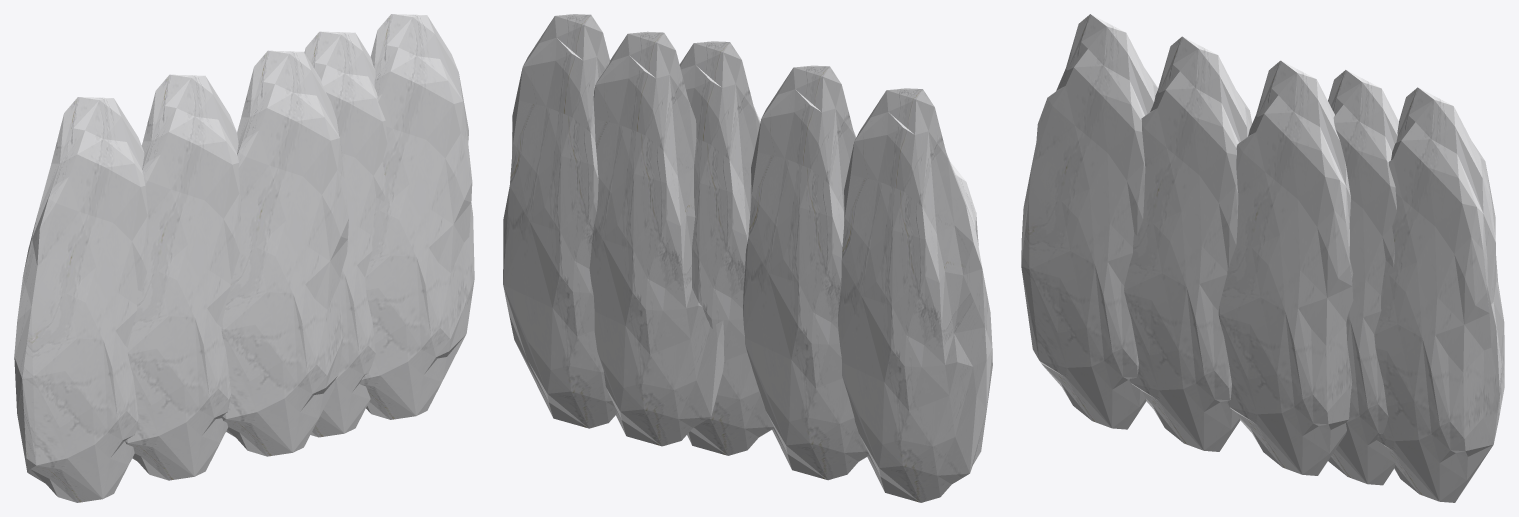
Rendered from RockIceNew.obj.
3 views of the same model, side by side, from view 1: azimuth 30°, elevation 25°; view 2: azimuth 150°, elevation 25°; view 3: azimuth 330°, elevation 25° (orthographic).
Visible parts, largest first — view 1: Cliff_Rock_One_OBJ.002, Cliff_Rock_One_OBJ.004, Cliff_Rock_One_OBJ.003, Cliff_Rock_One_OBJ.006, Cliff_Rock_One_OBJ.005; view 2: Cliff_Rock_One_OBJ.002, Cliff_Rock_One_OBJ.005, Cliff_Rock_One_OBJ.003, Cliff_Rock_One_OBJ.006, Cliff_Rock_One_OBJ.004; view 3: Cliff_Rock_One_OBJ.004, Cliff_Rock_One_OBJ.006, Cliff_Rock_One_OBJ.002, Cliff_Rock_One_OBJ.003, Cliff_Rock_One_OBJ.005.
Part boxes in pixels (box(x1,y1,x2,y2)): Cliff_Rock_One_OBJ.002: box(14, 97, 148, 502); Cliff_Rock_One_OBJ.004: box(221, 50, 348, 456); Cliff_Rock_One_OBJ.003: box(125, 74, 241, 480); Cliff_Rock_One_OBJ.006: box(359, 14, 474, 419); Cliff_Rock_One_OBJ.005: box(304, 31, 387, 437); Cliff_Rock_One_OBJ.002: box(838, 88, 992, 502); Cliff_Rock_One_OBJ.005: box(589, 31, 724, 446); Cliff_Rock_One_OBJ.003: box(743, 65, 869, 480); Cliff_Rock_One_OBJ.006: box(503, 14, 616, 428); Cliff_Rock_One_OBJ.004: box(679, 41, 774, 455); Cliff_Rock_One_OBJ.004: box(1218, 60, 1353, 475); Cliff_Rock_One_OBJ.006: box(1374, 87, 1504, 502); Cliff_Rock_One_OBJ.002: box(1021, 14, 1157, 429); Cliff_Rock_One_OBJ.003: box(1124, 36, 1252, 451); Cliff_Rock_One_OBJ.005: box(1328, 70, 1398, 485).
Size of the model in its own units: 4.04 by 3.35 by 0.4043.
1 material, 1 textured.
